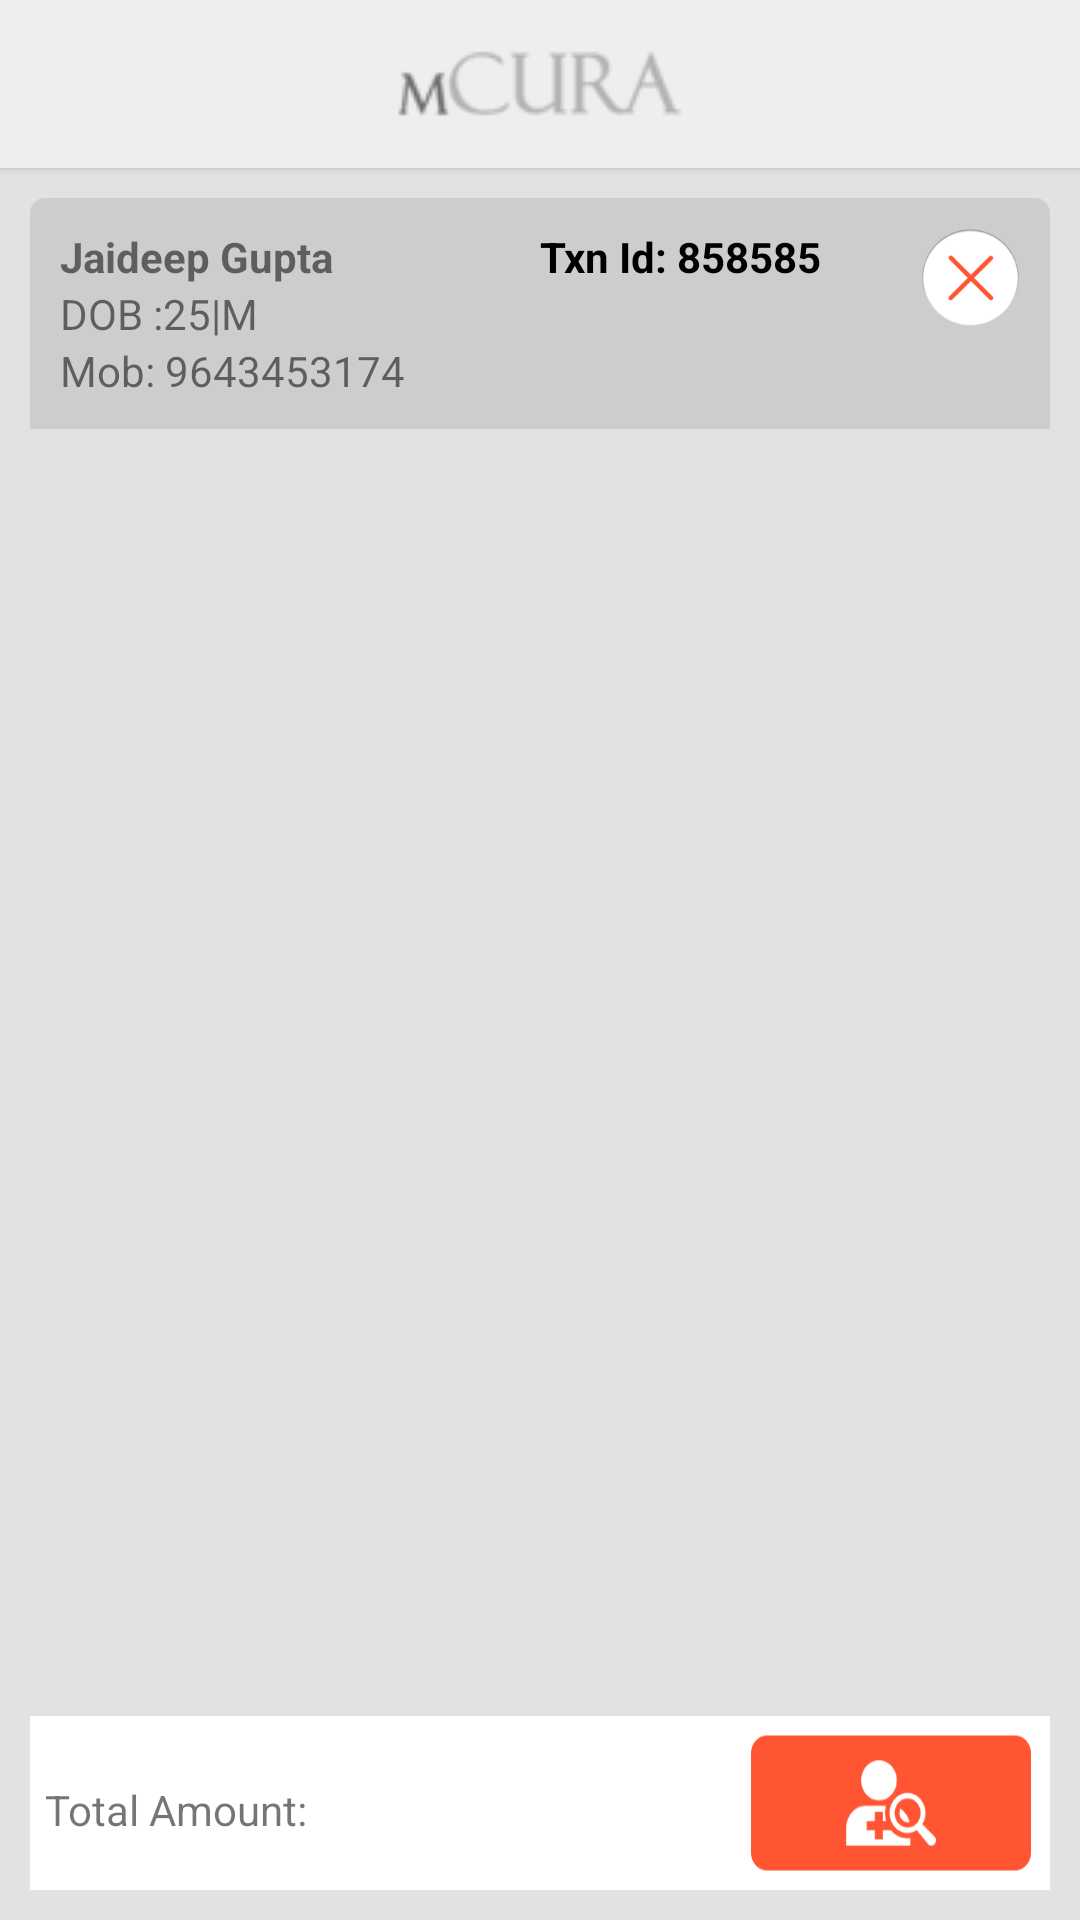

Named icons in this screenshot (1080px x 1920px) and their bounding boxes, (x1, y1, x2, y2):
close dialog: (923, 229, 1018, 325)
